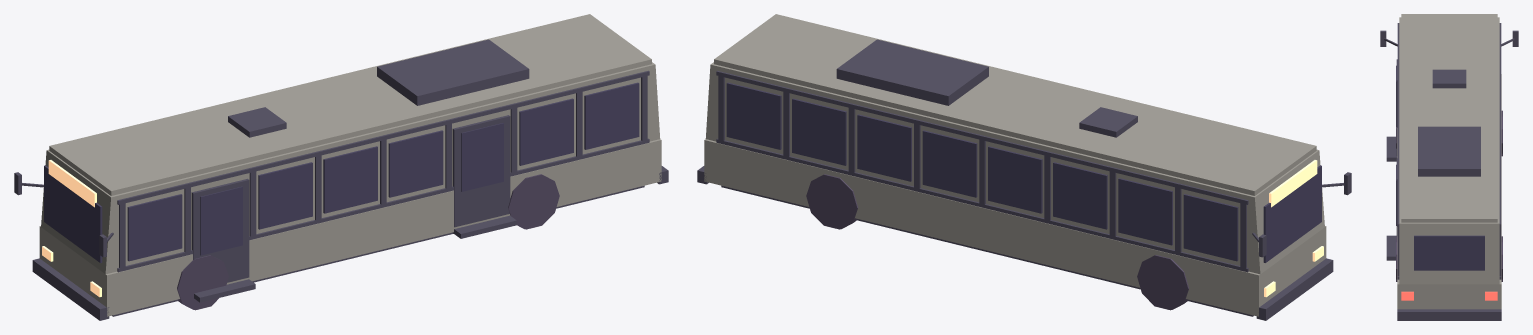
The model's file is Bus.glb.
3 renders of one model, left to right at view 1: azimuth 30°, elevation 25°; view 2: azimuth 150°, elevation 25°; view 3: azimuth 270°, elevation 25°, orthographic. The views are drawn at different scales.
Parts seen in each view (by area): view 1: roof, body-lower, window (×6), body-upper, roof-ac, door (×2), door-glass (×2), window-frame (×2), wheel-arch (×2), windscreen, pillar (×4), bumper (+4 smaller); view 2: roof, window (×8), body-lower, body-upper, roof-ac, window-frame (×2), pillar (×9), wheel-arch (×2), windscreen, bumper, roof-vent, base (+1 smaller); view 3: roof, body-upper, roof-ac, body-lower, rear-window, bumper, window-frame (×2), roof-vent, step (×2), door (×2), pillar (×2), taillight (×2) (+1 smaller).
Boxes of the visible parts, x1,y1,x2,y2 form: roof: (49,14,651,195); body-lower: (39,139,661,316); window (×6): (127,82,639,261); body-upper: (41,62,660,274); roof-ac: (377,39,529,105); door (×2): (191,115,510,282); door-glass (×2): (200,123,503,255); window-frame (×2): (117,70,649,272); wheel-arch (×2): (177,174,559,310); windscreen: (44,165,102,262); pillar (×4): (119,107,517,270); bumper: (32,258,109,320); roof: (714,14,1316,195); window (×8): (726,82,1238,261); body-lower: (704,139,1326,316); body-upper: (705,62,1324,274); roof-ac: (836,39,988,105); window-frame (×2): (716,70,1248,272); pillar (×9): (718,75,1246,270); wheel-arch (×2): (806,174,1188,310); windscreen: (1263,165,1321,262); bumper: (1256,258,1333,320); roof-vent: (1079,107,1137,137); base: (721,185,1253,316); roof: (1401,14,1497,222); body-upper: (1399,17,1499,284); roof-ac: (1418,126,1480,176); body-lower: (1397,74,1501,309); rear-window: (1414,235,1484,270); bumper: (1397,309,1501,320); window-frame (×2): (1397,23,1501,227); roof-vent: (1432,69,1466,88); step (×2): (1386,136,1397,260); door (×2): (1396,59,1397,235); pillar (×2): (1397,227,1501,276); taillight (×2): (1401,291,1497,300).
Size of the model in its own units: 12.36 by 3.03 by 3.3.
